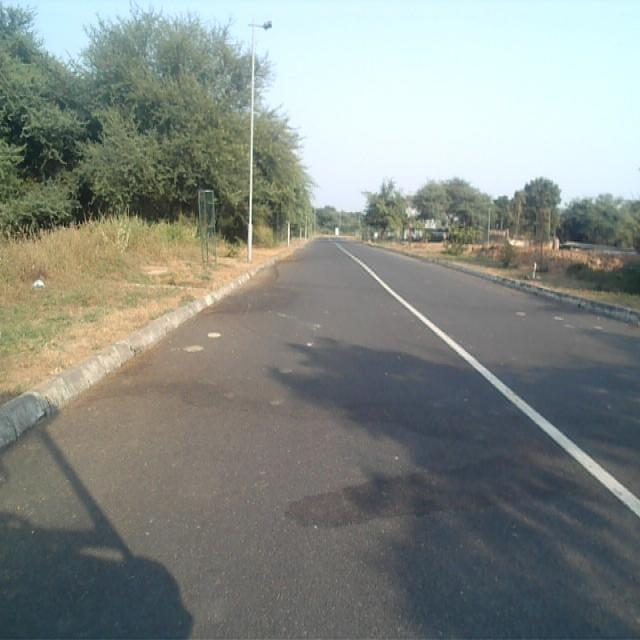lane: (0, 239, 640, 640)
